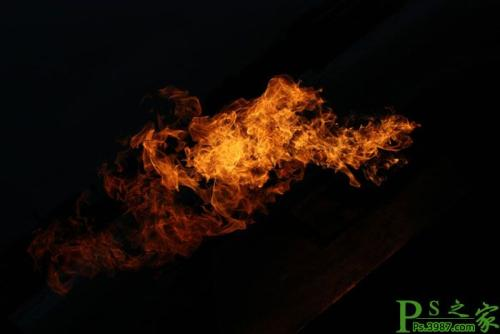fire: (175, 110, 394, 182)
